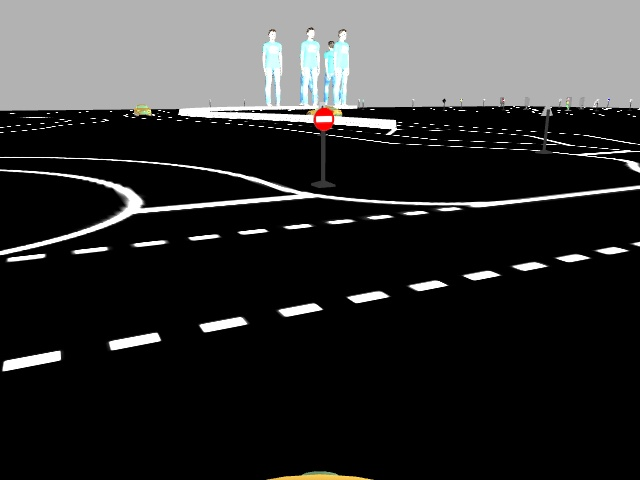NoEntry: (308, 109, 336, 132)
